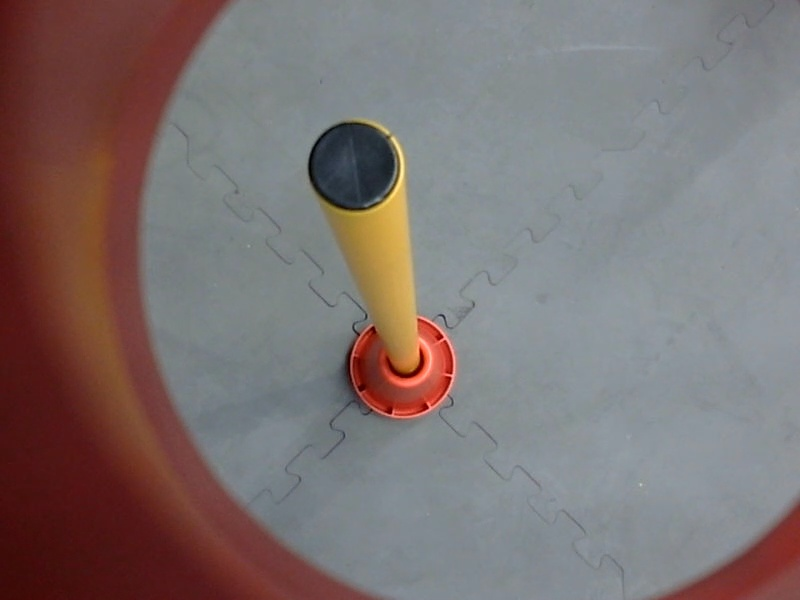tip: (302, 116, 412, 221)
